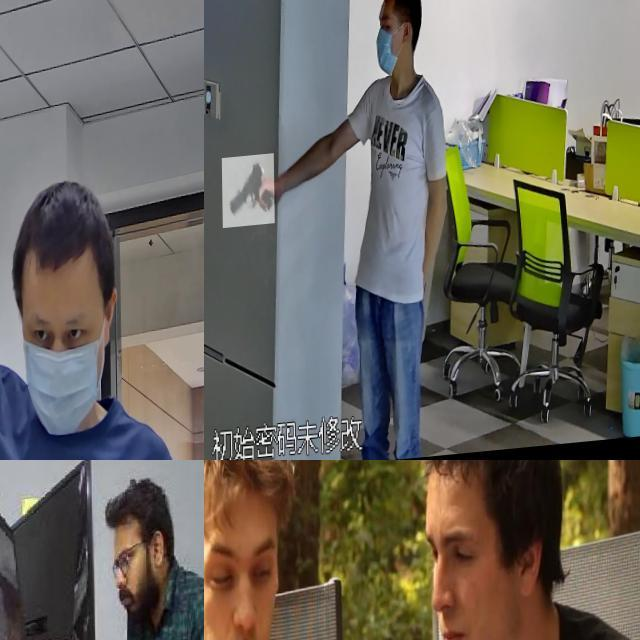gun-knife-thesis - v11 Yolov5 augmented: (0, 262, 44, 460), (220, 158, 274, 232)
